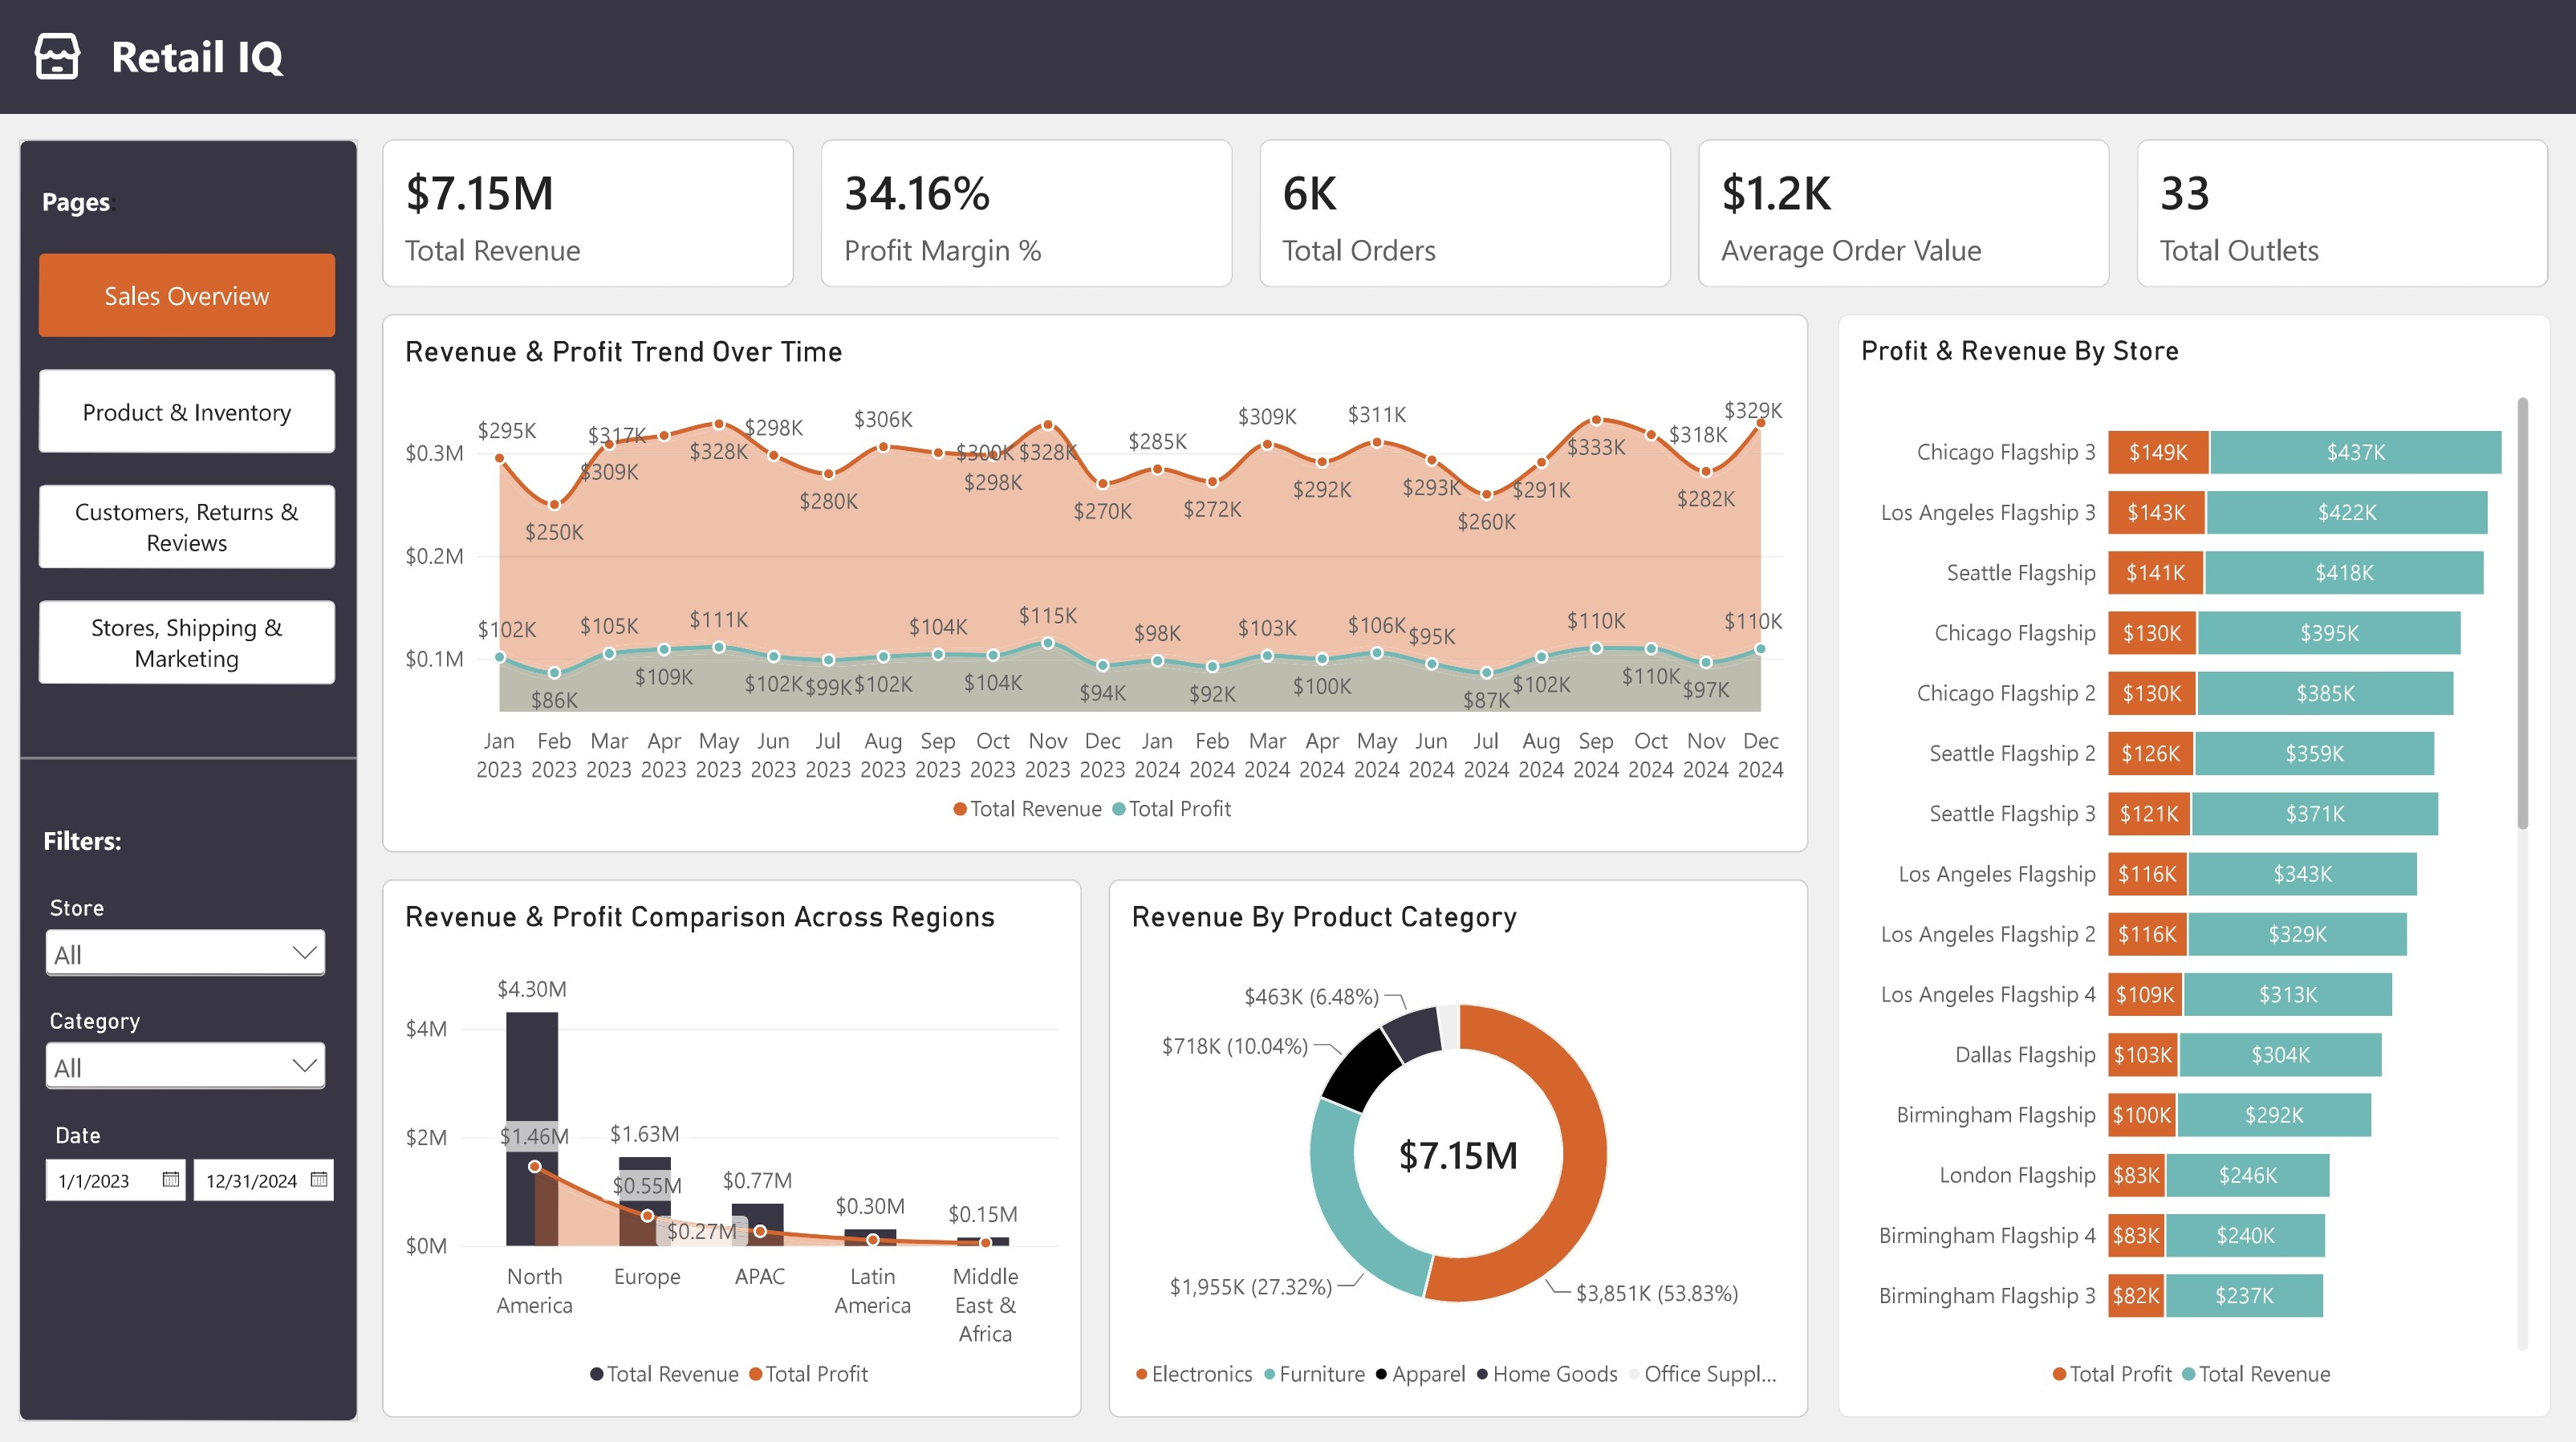

Layout of this report page (visuals, bound fields, positions):
{"tool":"powerbi","page":{"name":"Sales Overview","canvas":[1920,1080],"ordinal":0},"visuals":[{"type":"shape","box":[0,0,1920.7,85.9],"z":0},{"type":"textbox","box":[86,20,478,62],"z":1000},{"type":"cardVisual","fields":{"Data":["_Measures.Total Revenue","_Measures.Profit Margin %","_Measures.Total Orders","_Measures.Average Order Value","Count(Dim_Store.StoreID)"]},"box":[287.5,105,1612.5,110],"z":2000},{"type":"lineClusteredColumnComboChart","title":"Revenue & Profit Comparison Across Regions","fields":{"Category":["Dim_Region.RegionName"],"Y":["_Measures.Total Revenue"],"Y2":["_Measures.Total Profit"]},"box":[287.5,655,520,400],"z":3000},{"type":"lineChart","title":"Revenue & Profit Trend Over Time","fields":{"Category":["Dim_Date.YearMonth"],"Y":["_Measures.Total Revenue","_Measures.Total Profit"]},"box":[287.5,235.3,1060,400],"z":4000},{"type":"donutChart","title":"Revenue By Product Category","fields":{"Category":["Dim_Product.Category"],"Y":["_Measures.Total Revenue"]},"box":[827.5,655,520,400],"z":5000},{"type":"barChart","title":"Profit & Revenue By Store","fields":{"Category":["Dim_Store.StoreName"],"Y":["_Measures.Total Profit","_Measures.Total Revenue"]},"box":[1370,235,530,820],"z":6000},{"type":"shape","box":[17.5,105,252.5,952.5],"z":7000},{"type":"pageNavigator","box":[32.5,190,220,322.5],"z":8000},{"type":"slicer","fields":{"Values":["Dim_Store.StoreName"]},"box":[33.1,666,217.5,62.5],"z":9000},{"type":"textbox","box":[36,613,122,35],"z":10000},{"type":"slicer","fields":{"Values":["Dim_Product.Category"]},"box":[33.1,749.8,217.5,62.5],"z":11000},{"type":"textbox","box":[34.6,138.5,122.3,34.6],"z":12000},{"type":"shape","box":[17.7,540,252.3,50],"z":13000},{"type":"image","box":[23.1,26.2,46.9,33.8],"z":14000},{"type":"slicer","title":"Date","fields":{"Values":["Dim_Date.Date"]},"box":[30,858.3,236.7,95],"z":15000},{"type":"textbox","box":[45,835,85,23.3],"z":16000}]}

Visuals, with their boxes on the page's 1920x1080 design canvas (x1, y1, x2, y2). These are canvas units, not pixel positions in the 2576x1442 screenshot, which may show the page scaled, cropped or inside an application window:
shape: select_region(0, 0, 1921, 86)
textbox: select_region(86, 20, 564, 82)
cardVisual - _Measures.Total Revenue x _Measures.Profit Margin %: select_region(288, 105, 1900, 215)
"Revenue & Profit Comparison Across Regions" lineClusteredColumnComboChart: select_region(288, 655, 808, 1055)
"Revenue & Profit Trend Over Time" lineChart: select_region(288, 235, 1348, 635)
"Revenue By Product Category" donutChart: select_region(828, 655, 1348, 1055)
"Profit & Revenue By Store" barChart: select_region(1370, 235, 1900, 1055)
shape: select_region(18, 105, 270, 1058)
pageNavigator: select_region(32, 190, 252, 512)
slicer - Dim_Store.StoreName: select_region(33, 666, 251, 728)
textbox: select_region(36, 613, 158, 648)
slicer - Dim_Product.Category: select_region(33, 750, 251, 812)
textbox: select_region(35, 138, 157, 173)
shape: select_region(18, 540, 270, 590)
image: select_region(23, 26, 70, 60)
"Date" slicer: select_region(30, 858, 267, 953)
textbox: select_region(45, 835, 130, 858)
